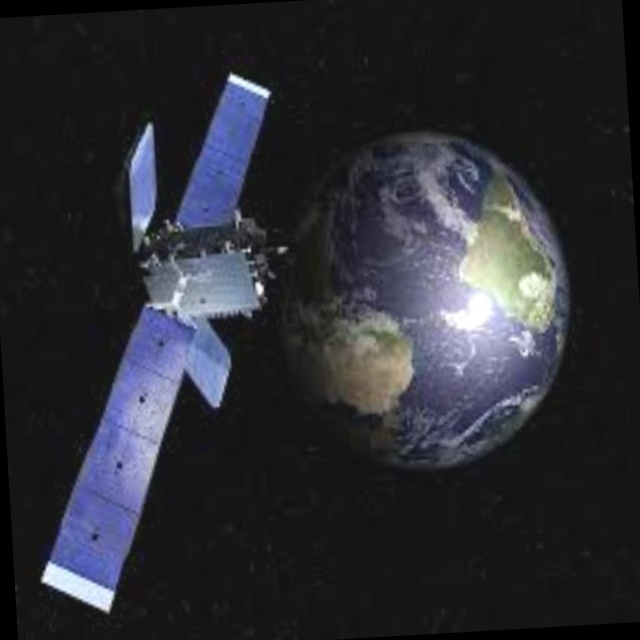satellite: (0, 39, 318, 640)
